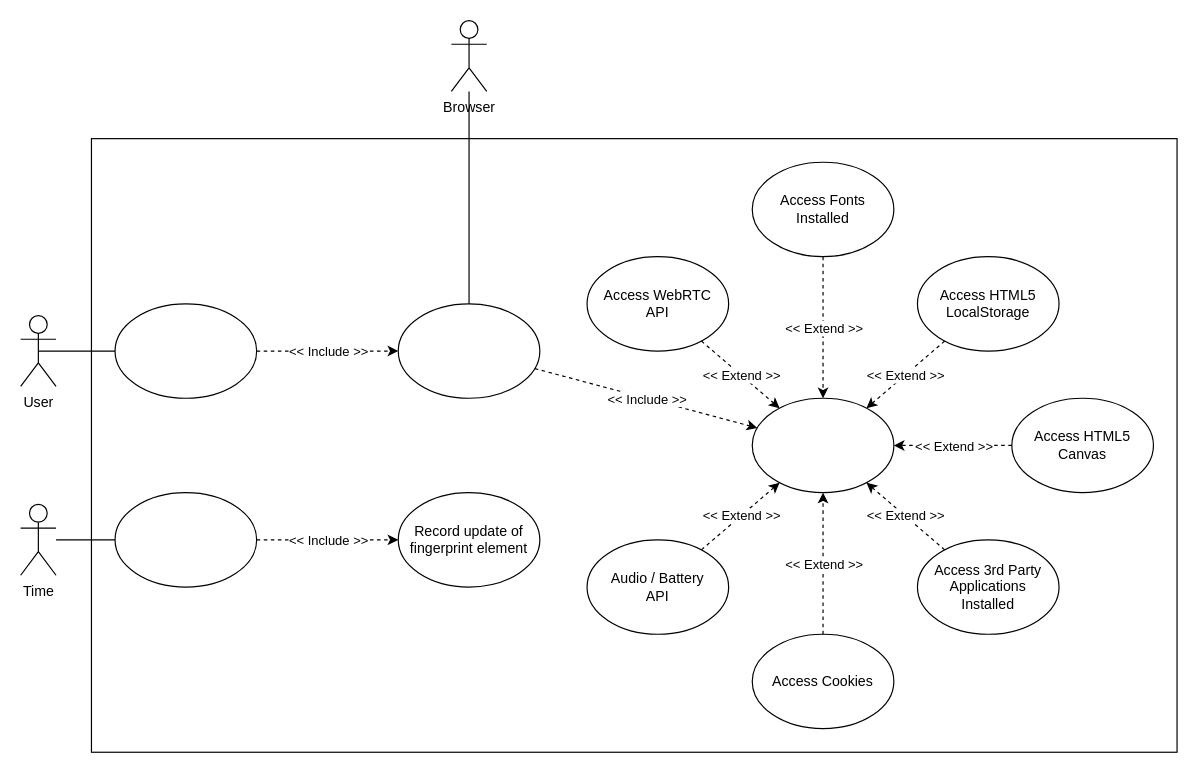
Image size: 1198x773. Some labels were removed from this diagram. The shapes that lost their labels are listed below. From the top down, each one's centre as x and y in pixels, then its label:
At (185,350): "View Fingerprint".
At (468,350): "Display Fingerprint".
At (822,445): "Retrieve Elements Composing Fingerprint".
At (185,539): "Update fingerprint elements".
